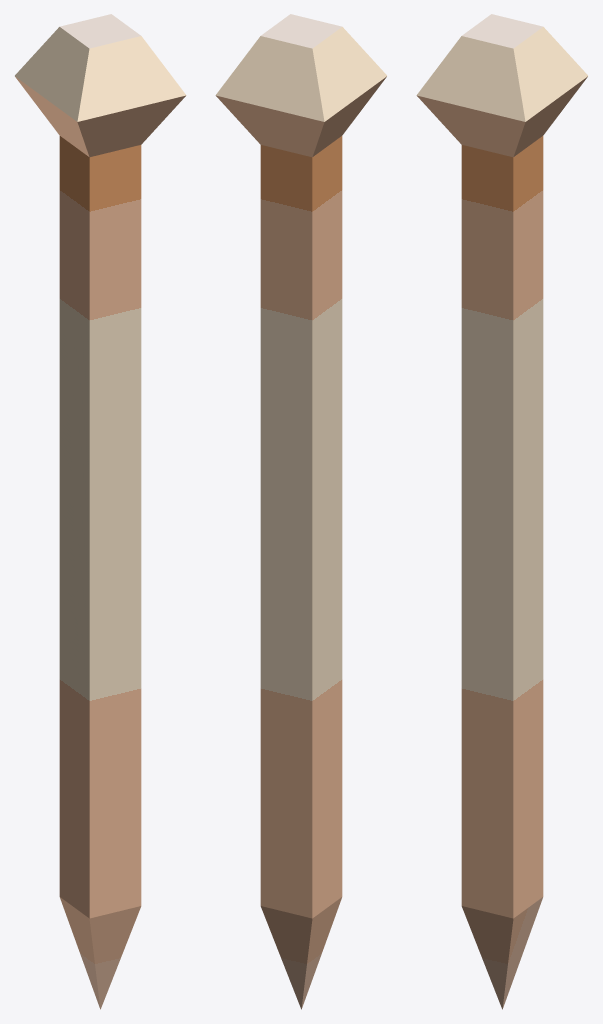
File: pin.fbx
The picture shows the model from 3 angles, left to right: view 1: azimuth 30°, elevation 25°; view 2: azimuth 150°, elevation 25°; view 3: azimuth 330°, elevation 25°; orthographic projection.
Parts seen in each view (by area): view 1: Pin; view 2: Pin; view 3: Pin.
Boxes of the visible parts, x1,y1,x2,y2 form: Pin: [15, 14, 186, 1009]; Pin: [215, 14, 386, 1009]; Pin: [416, 14, 587, 1009].
Bounding box in the file's own units: 6.56 × 56.25 × 6.56.
Materials: 1 (1 with a texture image).
